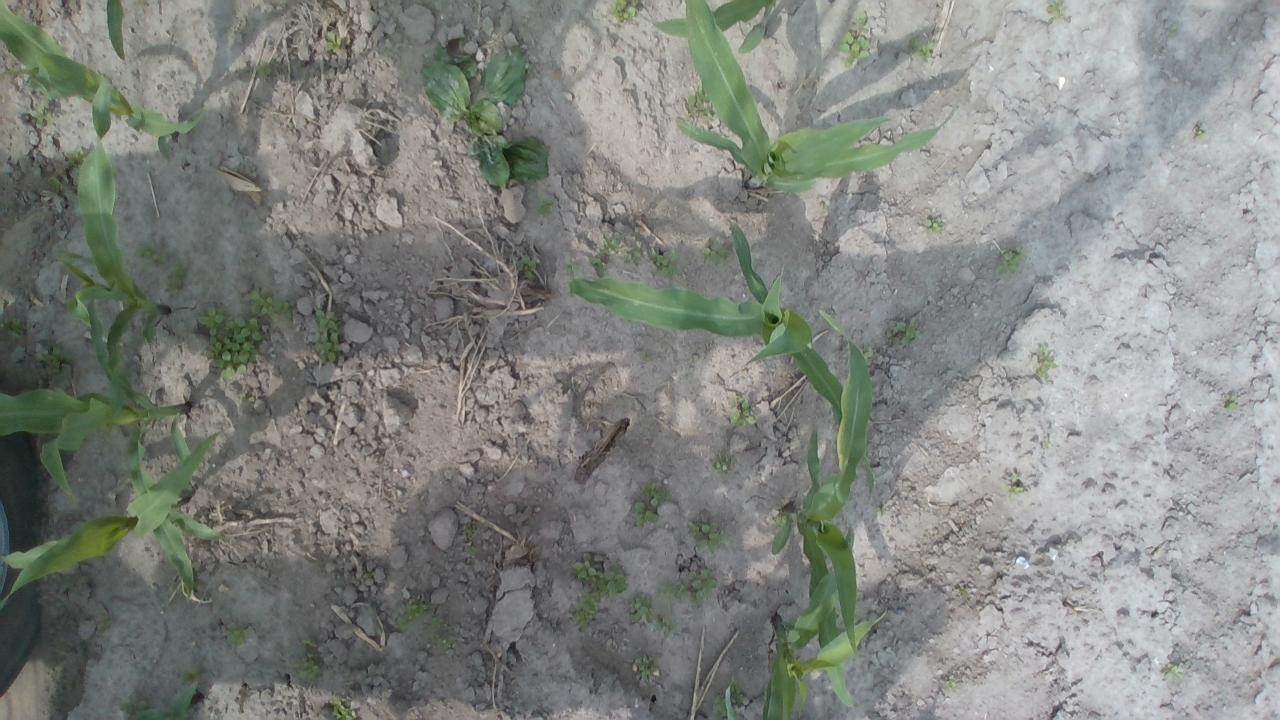Maize: (568, 225, 876, 500), (0, 300, 197, 599), (676, 0, 941, 194), (765, 309, 877, 705), (0, 428, 224, 608), (56, 77, 172, 408), (0, 0, 206, 163), (760, 526, 890, 720), (651, 0, 776, 54), (137, 681, 203, 720), (106, 0, 126, 62)
Weeds: (420, 43, 550, 190), (197, 304, 262, 384), (656, 566, 718, 608), (399, 604, 449, 648), (572, 558, 626, 596), (633, 481, 673, 529), (241, 286, 289, 321), (686, 518, 728, 554), (314, 308, 342, 362), (35, 336, 77, 370), (292, 639, 324, 683), (838, 30, 871, 66), (572, 590, 604, 624), (684, 82, 714, 118), (133, 239, 168, 268), (1034, 344, 1059, 384), (888, 316, 920, 346), (701, 237, 731, 267), (119, 691, 150, 720), (628, 592, 656, 624), (994, 248, 1030, 272), (164, 262, 188, 296), (652, 248, 679, 278), (729, 397, 755, 427), (598, 229, 624, 256), (515, 254, 540, 280), (634, 654, 660, 679), (0, 316, 25, 342), (225, 622, 252, 646), (908, 34, 936, 57), (175, 663, 202, 686), (710, 454, 736, 477), (609, 0, 638, 20), (728, 678, 748, 706), (1003, 474, 1026, 498), (534, 195, 556, 217), (332, 700, 356, 720), (29, 106, 54, 124), (324, 30, 342, 54), (712, 694, 728, 720), (590, 256, 608, 279), (1163, 663, 1186, 681), (68, 146, 86, 168), (856, 343, 874, 364), (623, 246, 642, 264), (46, 175, 64, 194), (926, 216, 946, 233), (658, 622, 678, 638), (1046, 0, 1066, 16), (236, 391, 256, 406), (256, 62, 272, 80), (1224, 397, 1240, 415), (463, 544, 480, 556), (564, 260, 578, 273), (463, 523, 478, 535), (854, 14, 868, 25), (1194, 128, 1206, 140), (1042, 438, 1052, 450), (944, 680, 959, 688)
